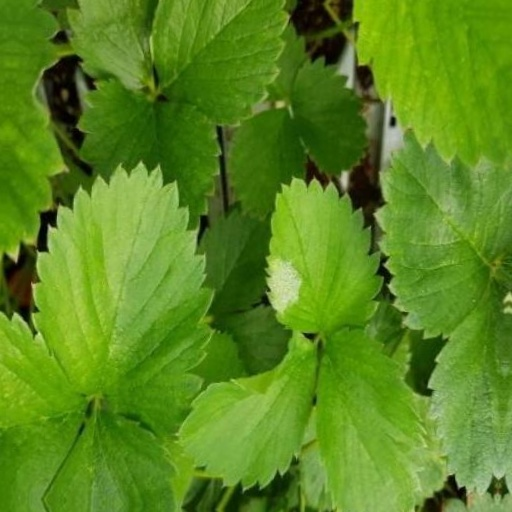Powdery Mildew Leaf: (127, 179, 247, 339)
